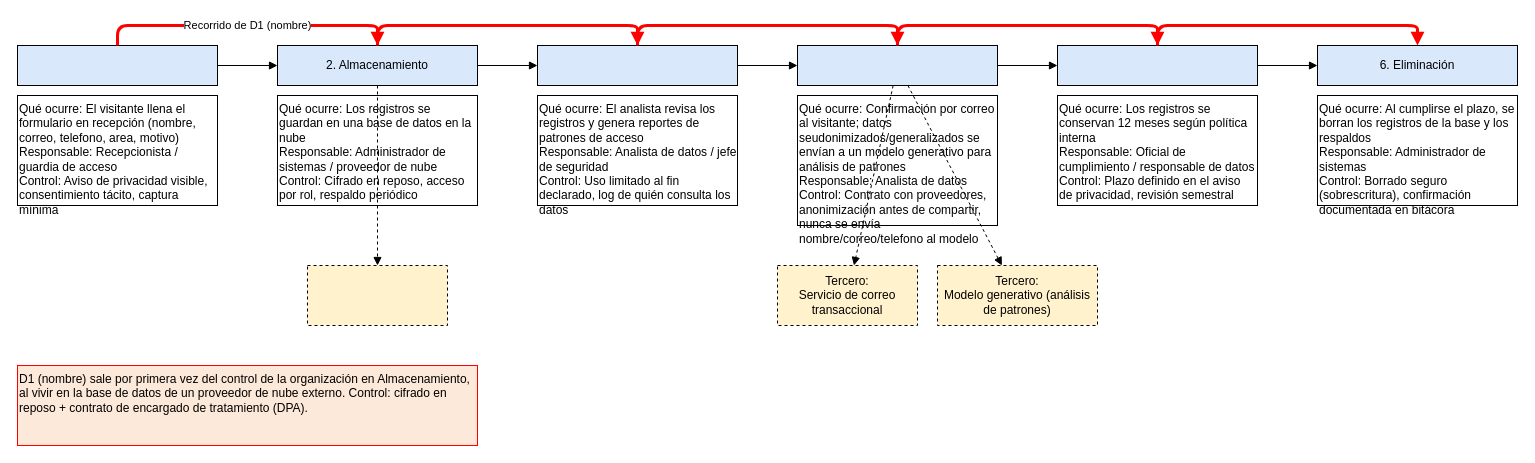
This 1535x463 diagram has some shape labels left out. Here are the shapes that lost their labels. From the top down, the centre of each, then its label:
At point (117, 65): "1. Captura".
At point (637, 65): "3. Uso".
At point (897, 65): "4. Compartición".
At point (1157, 65): "5. Retención".
At point (377, 295): "Tercero: Proveedor de nube".
